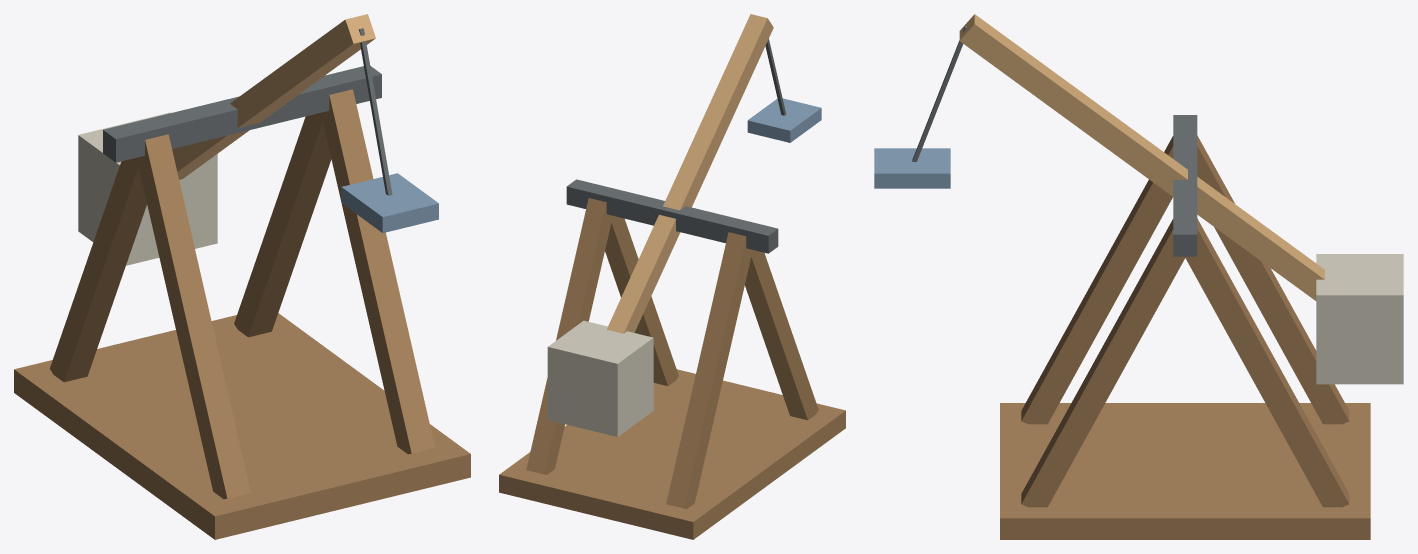
The model's file is trebuchet.glb.
3 renders of one model, left to right at view 1: azimuth 30°, elevation 25°; view 2: azimuth 150°, elevation 25°; view 3: azimuth 270°, elevation 25°, orthographic. The views are drawn at different scales.
Parts seen in each view (by area): view 1: trebuchet; view 2: trebuchet; view 3: trebuchet.
Part boxes in pixels (x1,y1,x2,y2): trebuchet: [14, 14, 470, 539]; trebuchet: [499, 14, 845, 539]; trebuchet: [874, 14, 1403, 539].
Bounding box in the file's own units: 2.6 × 4.69 × 4.85.
